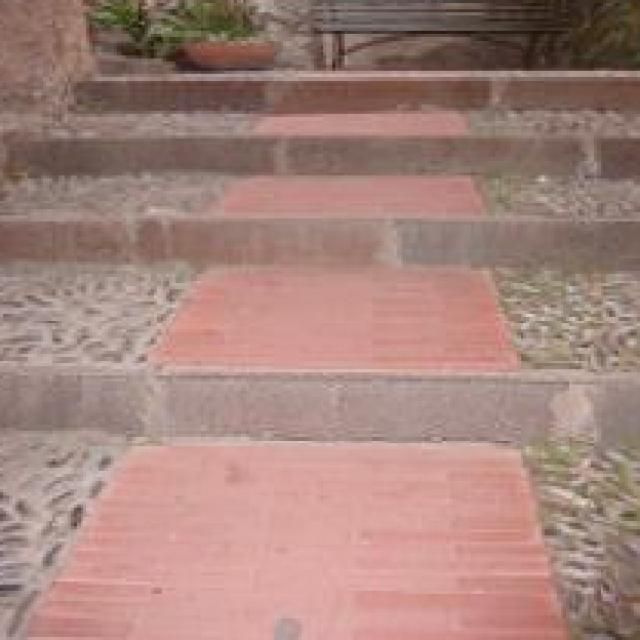upstair: (78, 66, 640, 457)
